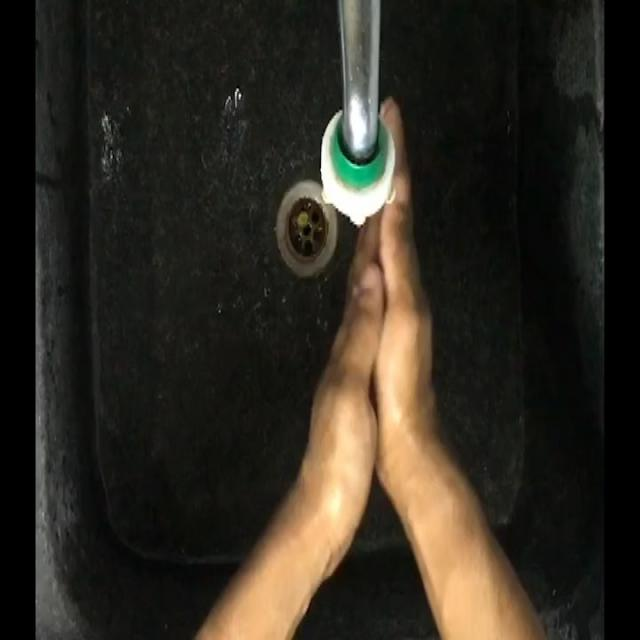step_1: (303, 79, 448, 504)
